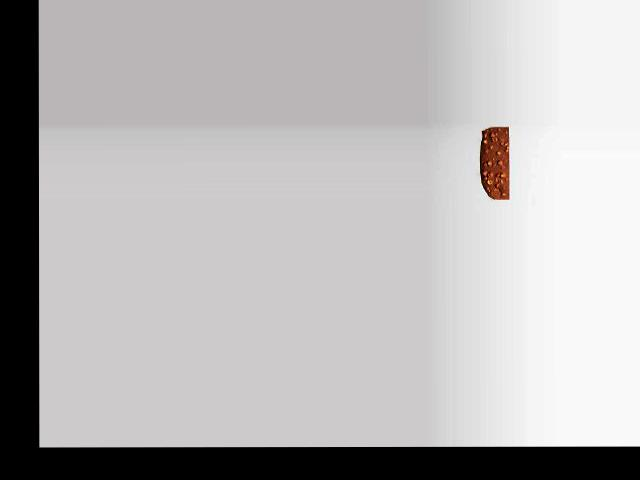chocolate: (474, 127, 512, 199)
